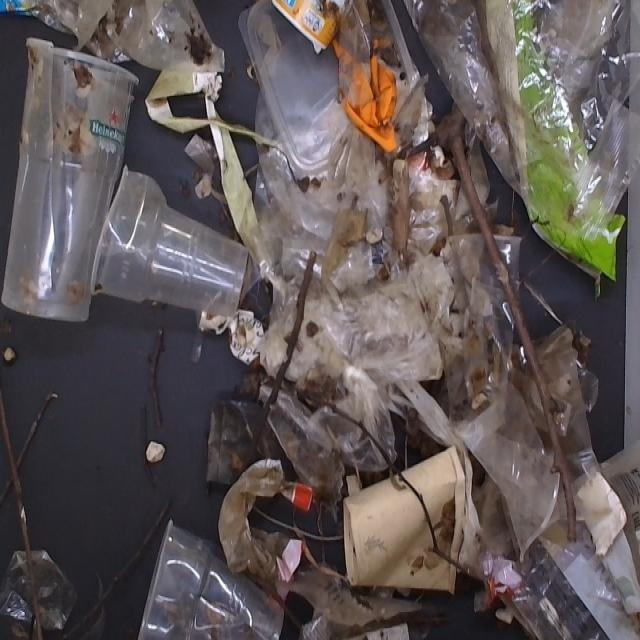food_packaging: (232, 0, 413, 184), (349, 461, 482, 603), (248, 0, 368, 64)
plastic_cups: (20, 24, 130, 345), (116, 162, 246, 338), (131, 492, 280, 640), (440, 231, 534, 426)
plastic_films: (244, 118, 496, 397), (400, 0, 640, 230), (478, 316, 640, 640), (0, 0, 226, 81), (0, 536, 86, 633)
